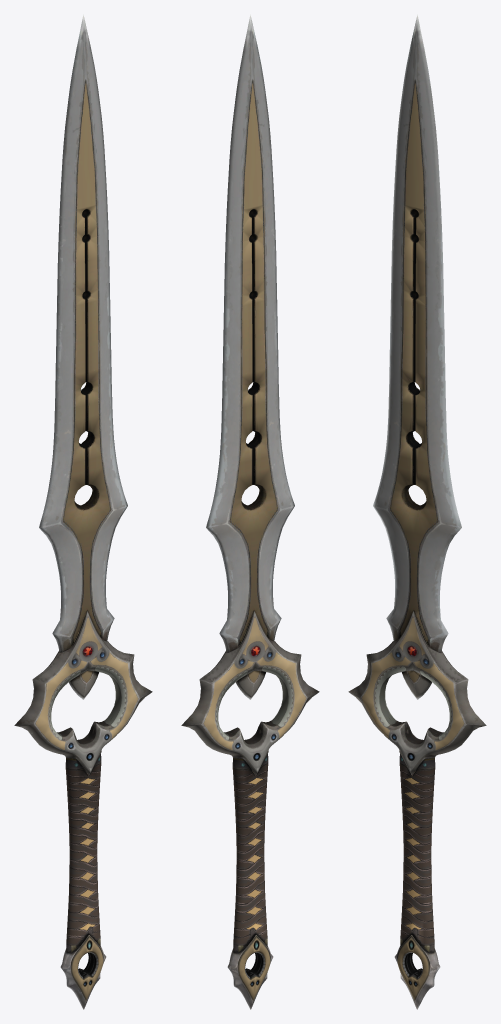
The picture shows the model from 3 angles, left to right: view 1: azimuth 30°, elevation 25°; view 2: azimuth 210°, elevation 25°; view 3: azimuth 330°, elevation 25°; orthographic projection.
Parts seen in each view (by area): view 1: Object_7; view 2: Object_7; view 3: Object_7.
Boxes of the visible parts, <box> form: Object_7: <box>14,14,152,1009</box>; Object_7: <box>181,14,319,1009</box>; Object_7: <box>348,14,486,1009</box>.
Bounding box in the file's own units: 0.1457 × 1 × 0.0275.
1 material, 1 textured.
